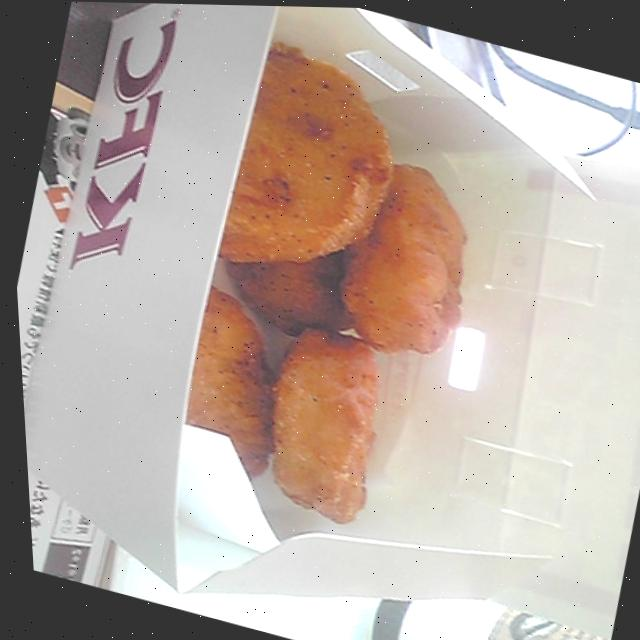鸡肉料理 含炸鸡: (78, 4, 571, 591)
